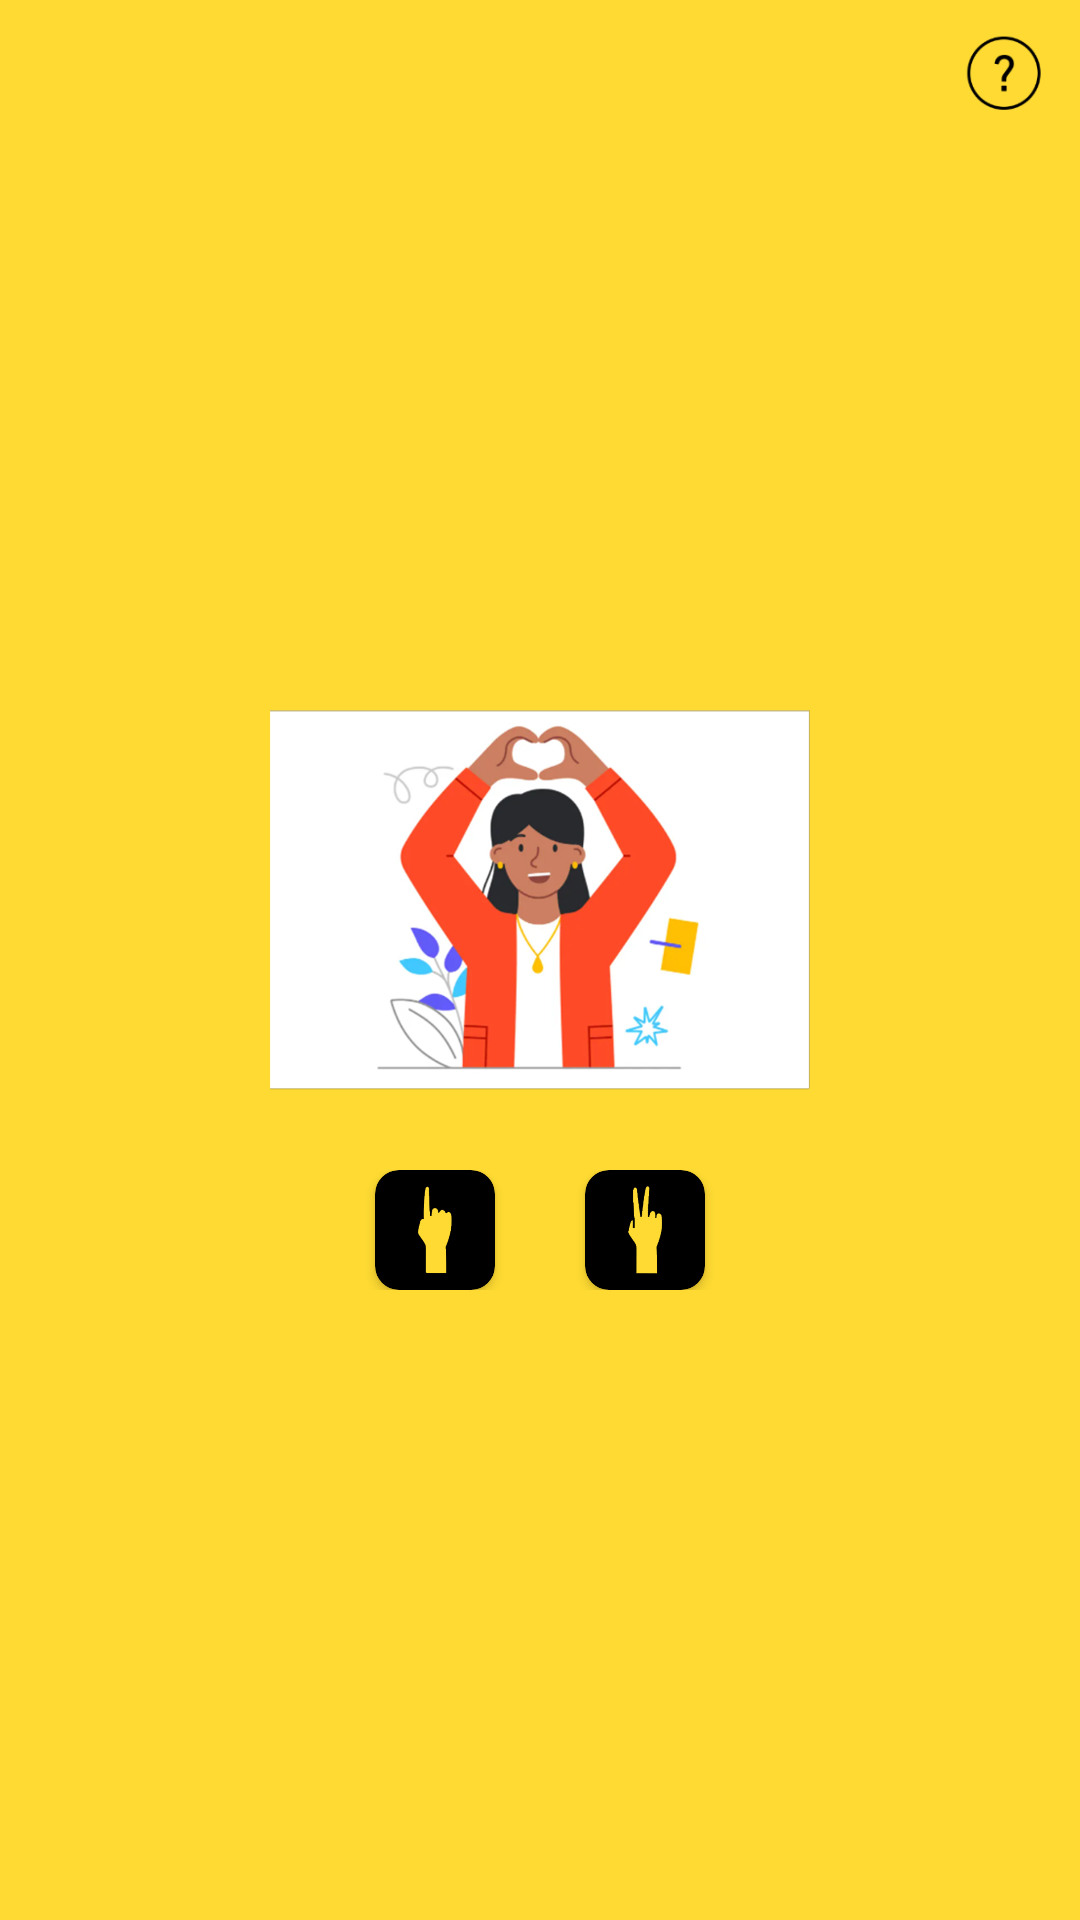

Where to tap for icons on this 1080w x 1920h app screen, as [x,y]:
info: [1004,73]
